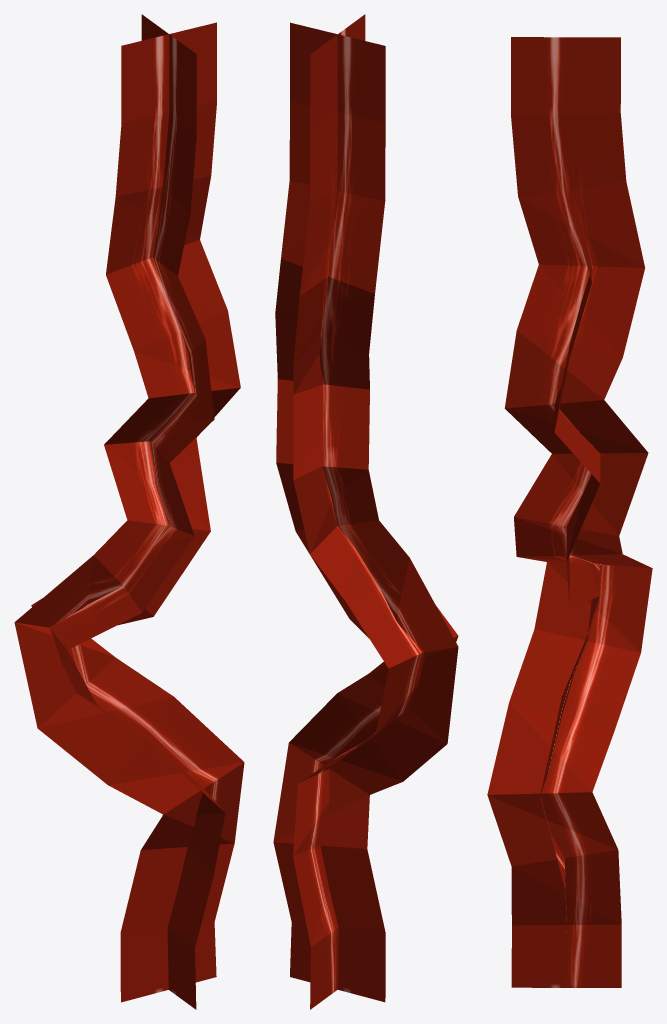
Rendered from tx_vehicle_susheqiang_fire01_red.obj.
3 renders of one model, left to right at view 1: azimuth 30°, elevation 25°; view 2: azimuth 150°, elevation 25°; view 3: azimuth 270°, elevation 25°, orthographic.
Parts seen in each view (by area): view 1: Plane07; view 2: Plane07; view 3: Plane07.
Part boxes in pixels (left/top/right/bottom): Plane07: left=14, top=14, right=244, bottom=1009; Plane07: left=273, top=14, right=458, bottom=1009; Plane07: left=487, top=37, right=652, bottom=987.
Size of the model in its own units: 42.56 by 191 by 30.08.
Materials: 1 (1 with a texture image).
